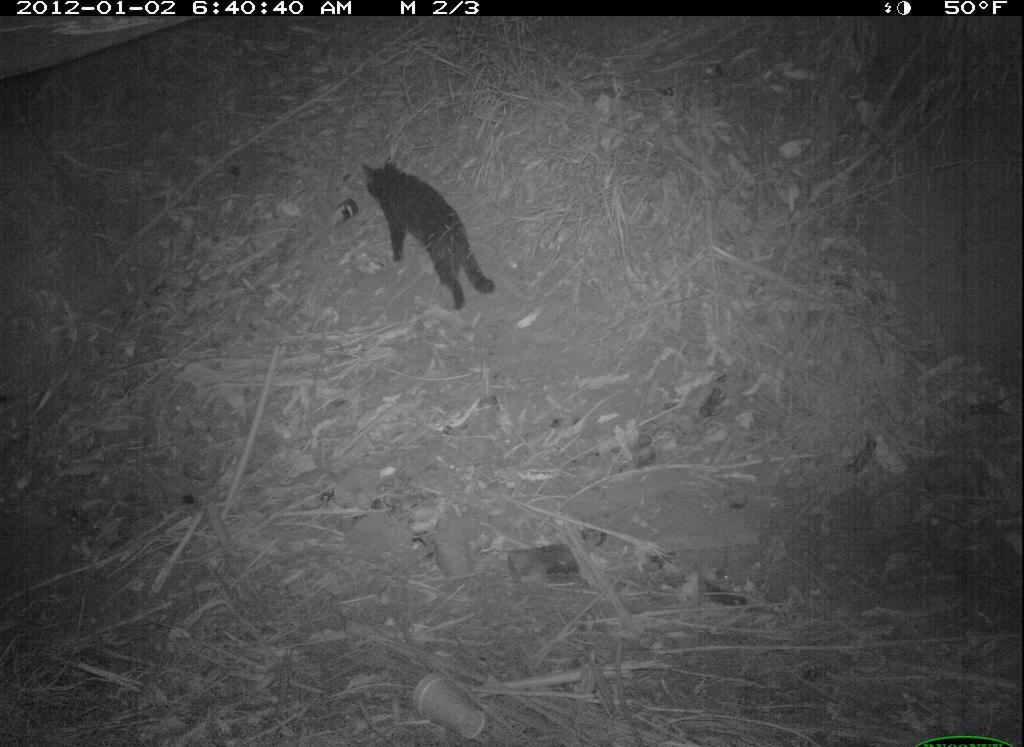cat: (361, 132, 513, 338)
